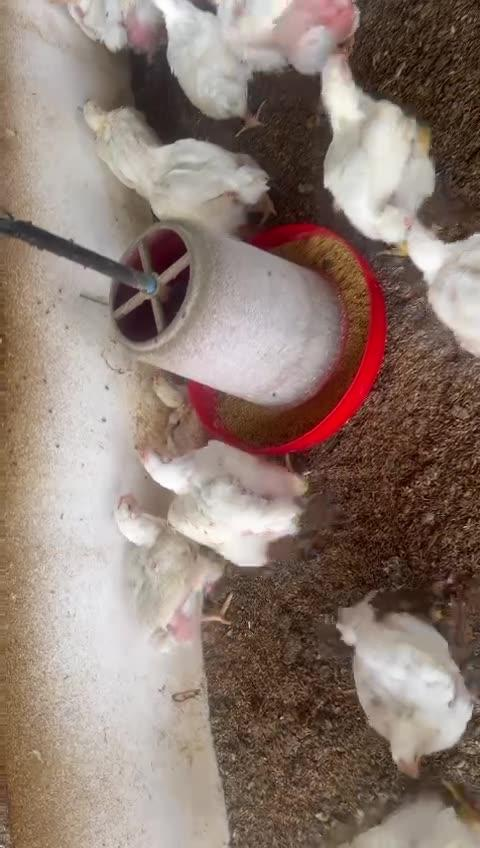AbNormal: (317, 600, 480, 775), (105, 482, 222, 645), (60, 85, 165, 208)
Normal: (300, 40, 452, 230), (380, 198, 480, 368), (140, 0, 270, 130)
